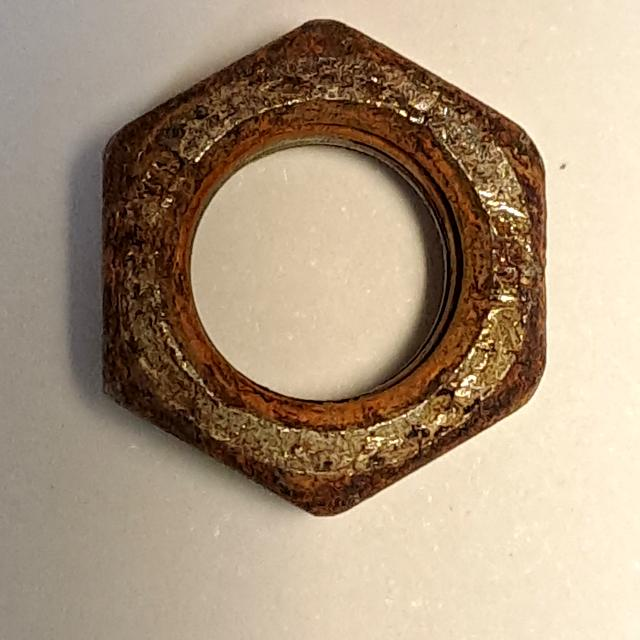Rust: (91, 3, 558, 527)
